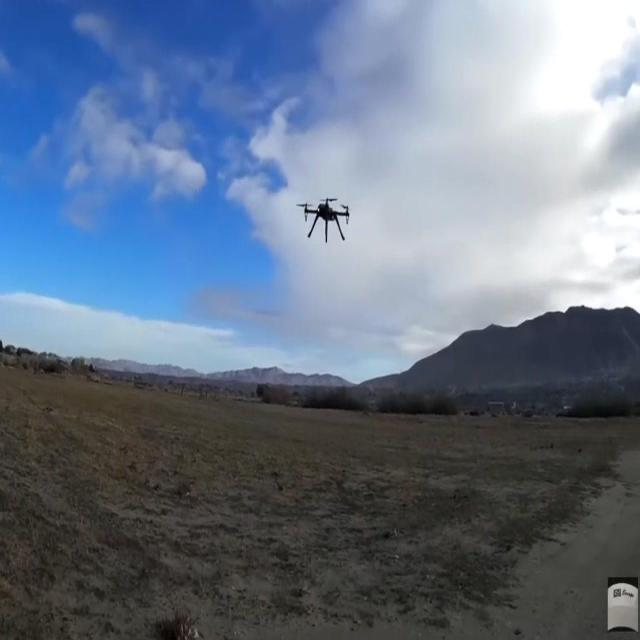drone: (295, 193, 351, 247)
